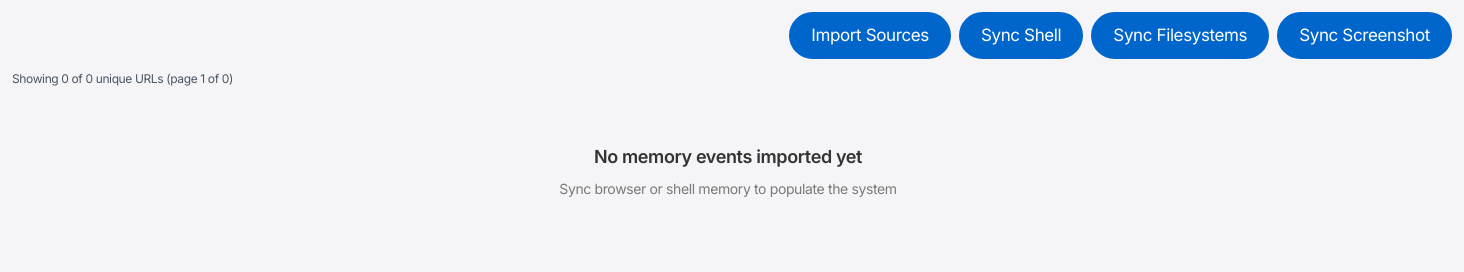
Test: MemoryPanel sync actions › renders unsupported source sync buttons and shows info feedback when they are clicked
expect the button "Import Sources" is shown: met, box [789,12,951,59]
What coordinates should you click on to do the following:
click the button "Sync Filesystems"
I would click on:
 (1180, 36)
Its box is [1091,12,1269,59].
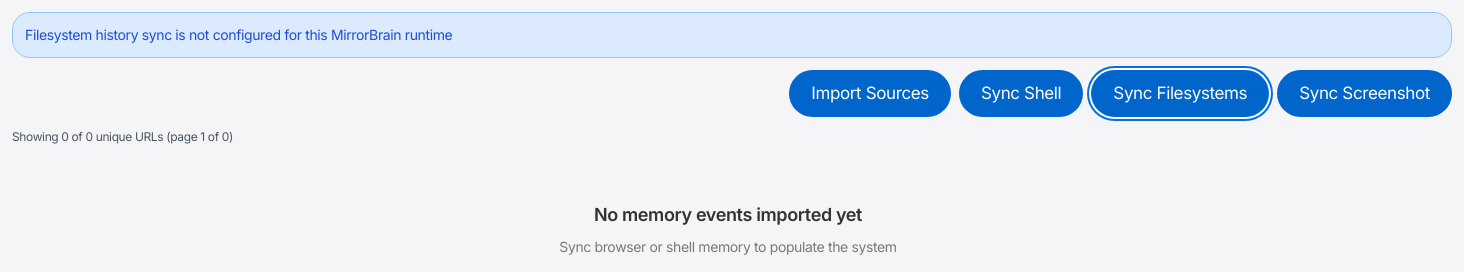
expect the text "Filesystem history sync is not configured for this MirrorBrain runtime" is shown: met, box [25,26,452,43]
What coordinates should you click on to do the following:
click the button "Sync Screenshot"
I would click on:
 (1365, 94)
Its box is [1277,70,1452,117].
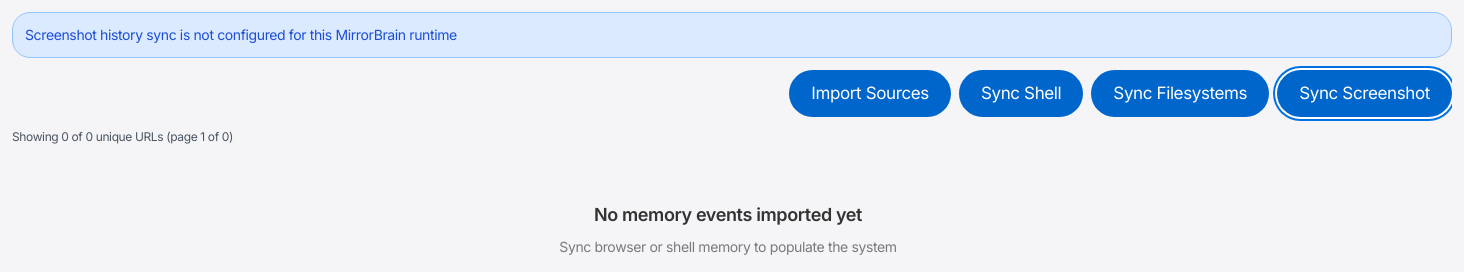
expect the text "Screenshot history sync is not configured for this MirrorBrain runtime" is shown: met, box [25,26,457,43]
